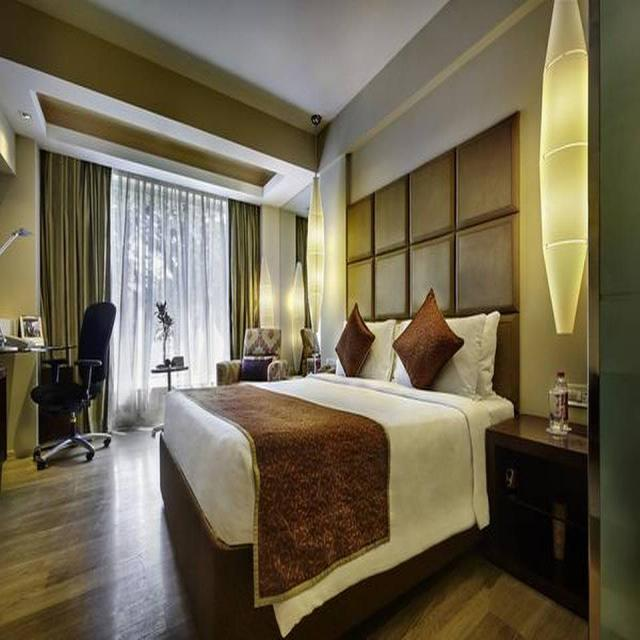bed: (151, 314, 500, 640)
chair: (21, 283, 119, 486)
sofa: (216, 326, 288, 385)
